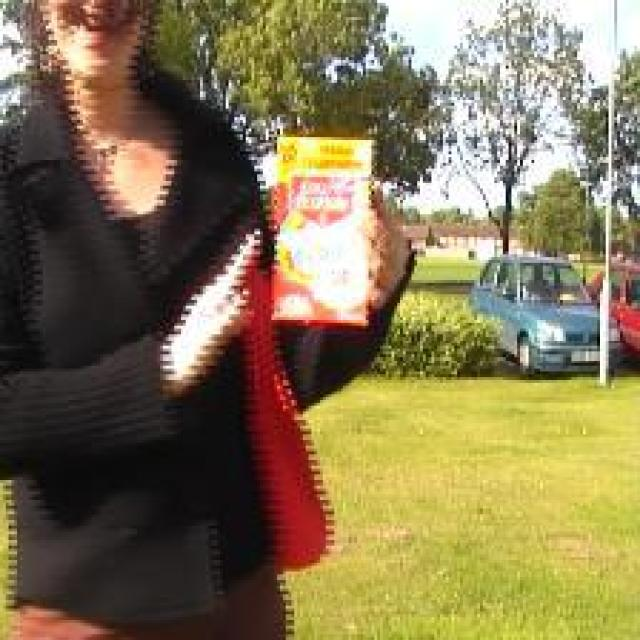other: (244, 113, 378, 556)
